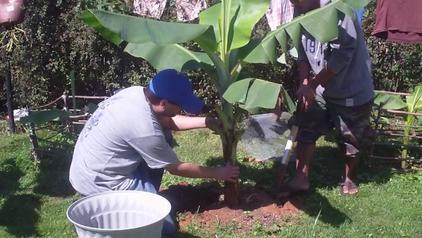sit: (283, 93, 327, 186)
